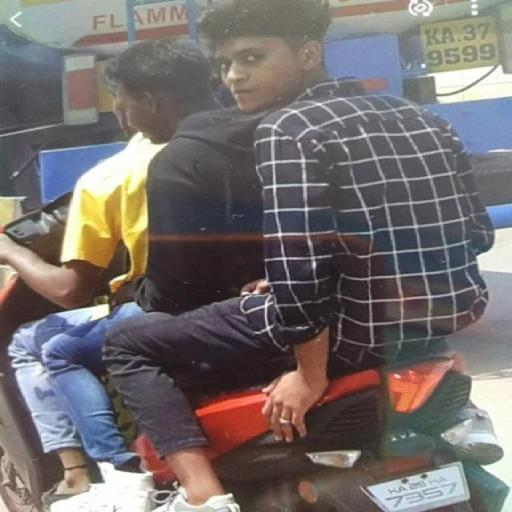tripple riding: (6, 0, 498, 392)
